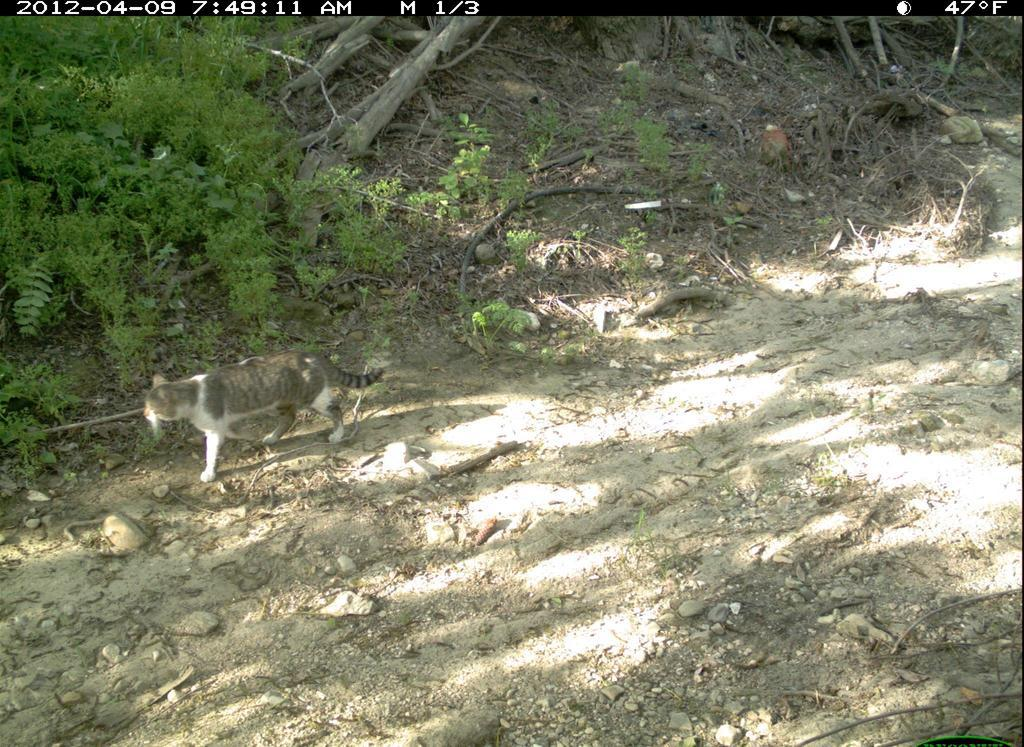cat: (140, 346, 388, 486)
